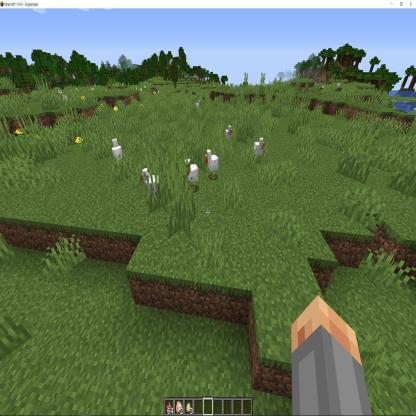minecraft-pigs: (140, 166, 162, 202), (204, 148, 221, 184), (183, 156, 200, 192), (111, 134, 125, 166), (254, 138, 266, 167), (223, 124, 234, 144), (58, 90, 70, 108), (194, 100, 202, 114)
